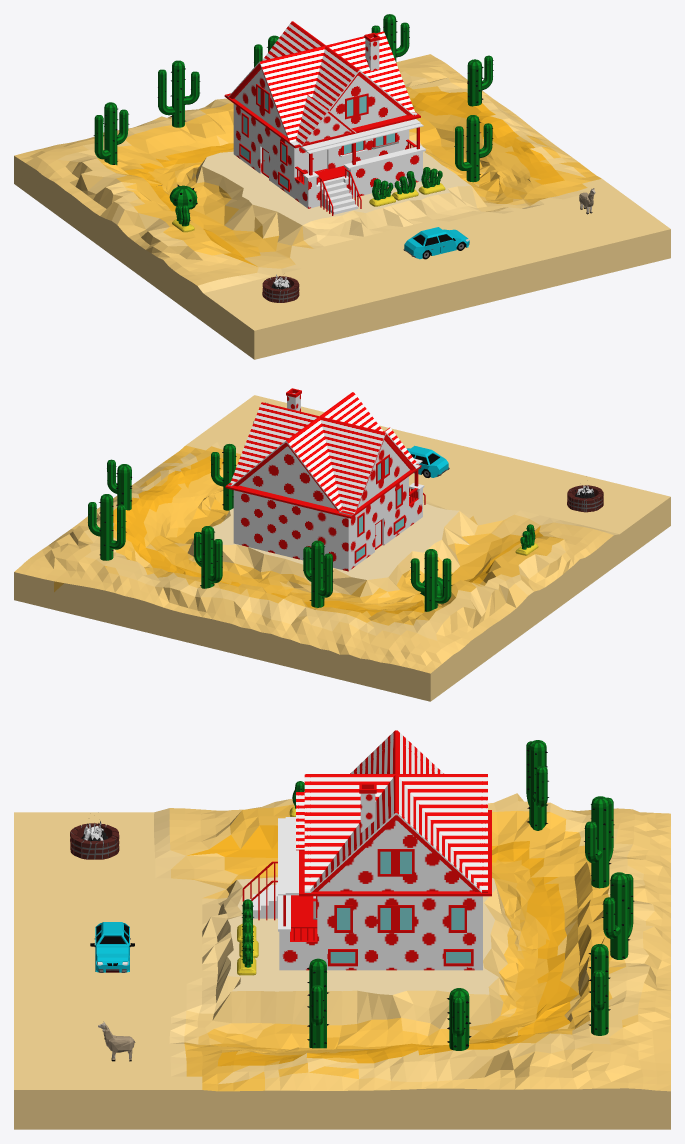
The picture shows the model from 3 angles, top to bottom: view 1: azimuth 30°, elevation 25°; view 2: azimuth 150°, elevation 25°; view 3: azimuth 270°, elevation 25°; orthographic projection. The views are drawn at different scales.
Parts seen in each view (by area): view 1: Cube.001, Cube.196, Cylinder.037, Cylinder.044, Cylinder.045, VEHICLES_CAR, Cylinder.038, OBJRANDOM_CAMPFIRE, Cylinder.042, Cylinder.039, Cylinder.041, Sphere.023 (+1 smaller); view 2: Cube.001, Cube.196, Cylinder.042, Cylinder.045, Cylinder.044, Cylinder.043, Cylinder.037, Cylinder.038, OBJRANDOM_CAMPFIRE, VEHICLES_CAR; view 3: Cube.001, Cube.196, Cylinder.043, Cylinder.044, Cylinder.045, VEHICLES_CAR, Cylinder.042, OBJRANDOM_CAMPFIRE, Cylinder.037, Cylinder.038, ANIMAL_LLAMA, Cylinder.041.
Boxes of the visible parts, left/top/right/bottom form: Cube.001: left=14, top=54, right=670, bottom=359; Cube.196: left=224, top=21, right=425, bottom=215; Cylinder.037: left=454, top=115, right=493, bottom=182; Cylinder.044: left=157, top=60, right=200, bottom=127; Cylinder.045: left=93, top=102, right=129, bottom=164; VEHICLES_CAR: left=403, top=227, right=469, bottom=259; Cylinder.038: left=467, top=55, right=493, bottom=106; OBJRANDOM_CAMPFIRE: left=262, top=274, right=299, bottom=302; Cylinder.042: left=371, top=14, right=409, bottom=62; Cylinder.039: left=369, top=179, right=395, bottom=206; Cylinder.041: left=418, top=167, right=445, bottom=194; Sphere.023: left=169, top=184, right=197, bottom=209; Cube.001: left=14, top=395, right=670, bottom=701; Cube.196: left=225, top=388, right=425, bottom=571; Cylinder.042: left=88, top=494, right=126, bottom=560; Cylinder.045: left=410, top=549, right=452, bottom=611; Cylinder.044: left=303, top=540, right=333, bottom=607; Cylinder.043: left=193, top=526, right=222, bottom=588; Cylinder.037: left=211, top=444, right=240, bottom=510; Cylinder.038: left=107, top=459, right=131, bottom=510; OBJRANDOM_CAMPFIRE: left=567, top=484, right=603, bottom=512; VEHICLES_CAR: left=407, top=445, right=449, bottom=477; Cube.001: left=14, top=793, right=670, bottom=1129; Cube.196: left=242, top=730, right=491, bottom=970; Cylinder.043: left=602, top=872, right=634, bottom=959; Cylinder.044: left=584, top=796, right=614, bottom=888; Cylinder.045: left=526, top=740, right=548, bottom=830; VEHICLES_CAR: left=90, top=922, right=134, bottom=972; Cylinder.042: left=588, top=944, right=610, bottom=1035; OBJRANDOM_CAMPFIRE: left=70, top=821, right=119, bottom=859; Cylinder.037: left=307, top=958, right=328, bottom=1048; Cylinder.038: left=447, top=988, right=471, bottom=1050; ANIMAL_LLAMA: left=98, top=1021, right=135, bottom=1061; Cylinder.041: left=237, top=932, right=256, bottom=975.
Bounding box in the file's own units: 4002 × 1635 × 4001.
30 materials, 3 textured.
